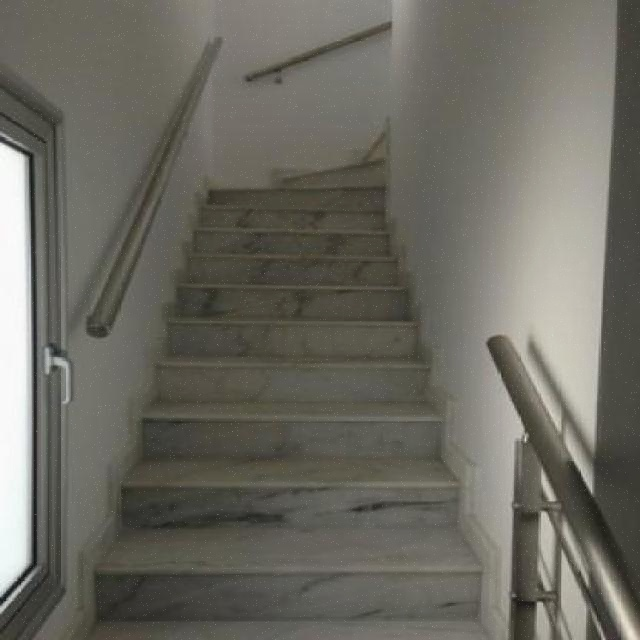stair: (74, 0, 530, 638)
